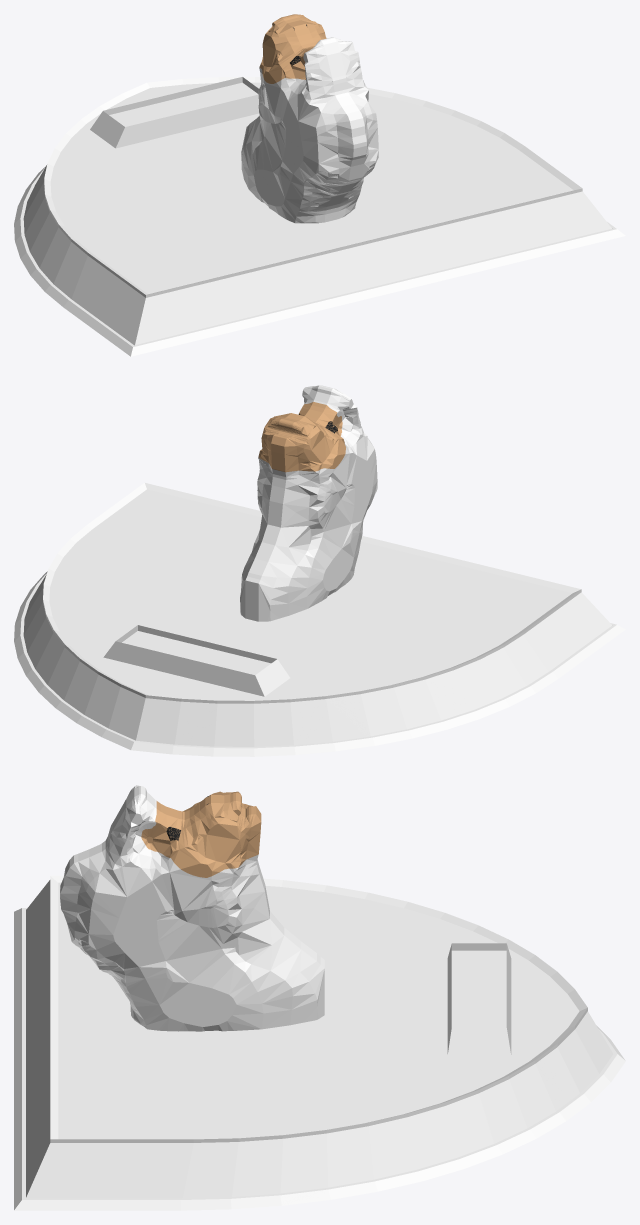
The picture shows the model from 3 angles, top to bottom: view 1: azimuth 30°, elevation 25°; view 2: azimuth 150°, elevation 25°; view 3: azimuth 270°, elevation 25°; orthographic projection. The views are drawn at different scales.
Parts seen in each view (by area): view 1: monkey head wall plaque; view 2: monkey head wall plaque; view 3: monkey head wall plaque.
Part boxes in pixels (x1=…): monkey head wall plaque: x1=14, y1=14, x2=625, y2=356; monkey head wall plaque: x1=14, y1=385, x2=625, y2=756; monkey head wall plaque: x1=14, y1=785, x2=625, y2=1210.
Bounding box in the file's own units: 35.04 × 14.85 × 30.33.
